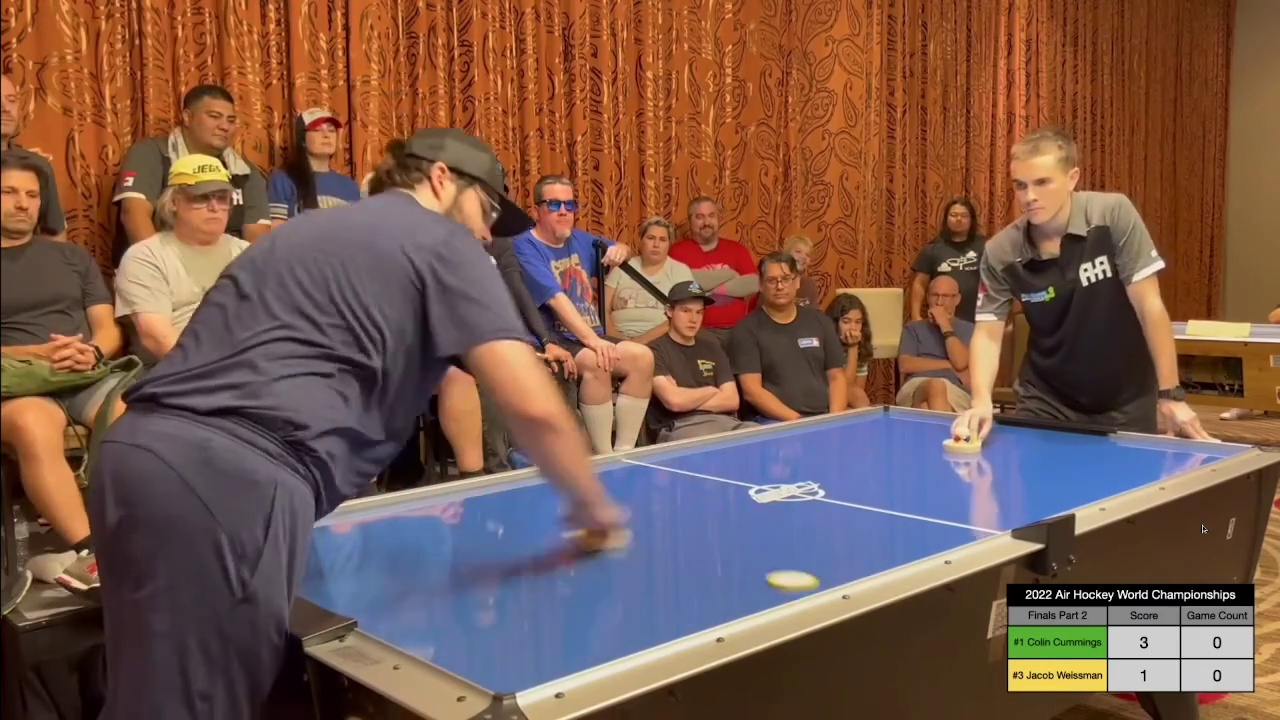player: (566, 507, 637, 556), (942, 424, 985, 450)
puck: (762, 567, 827, 590)
table: (172, 404, 1280, 693)
